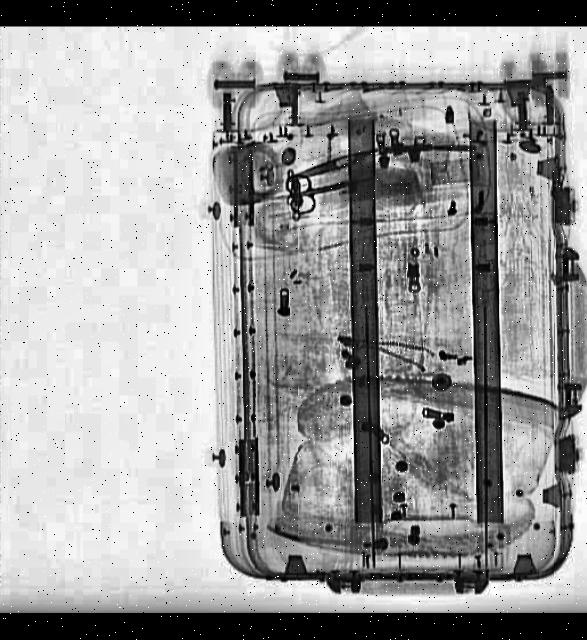Scissors: (282, 163, 362, 216)
